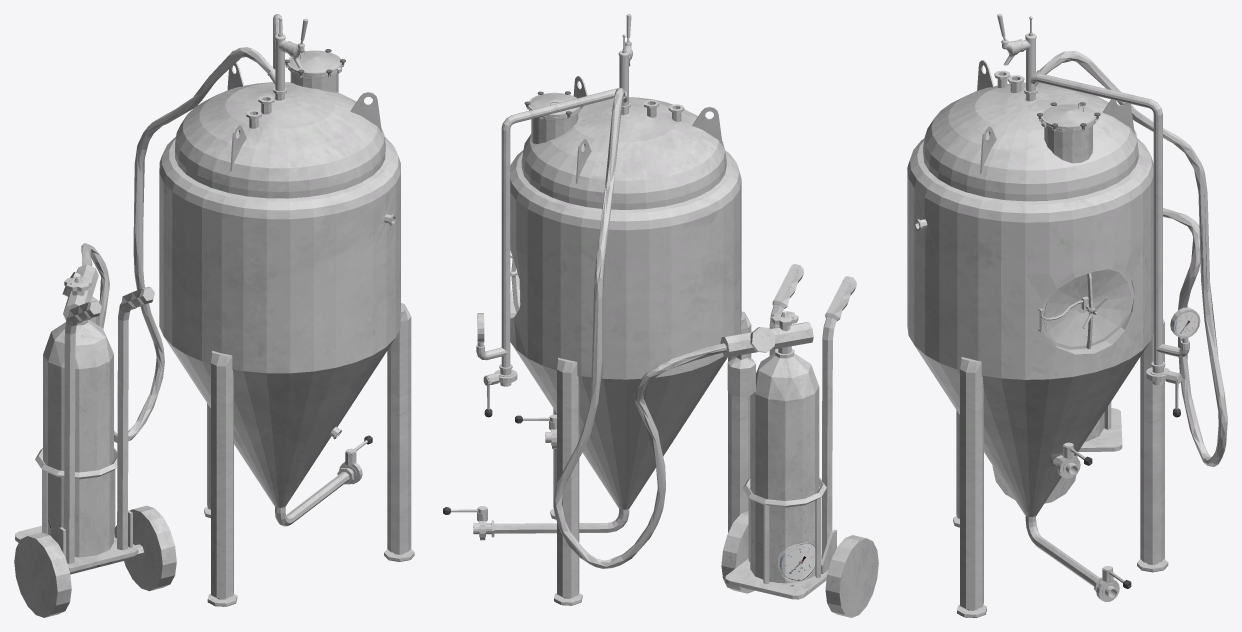
Rendered from P_WineBarrel.obj.
The picture shows the model from 3 angles, left to right: view 1: azimuth 30°, elevation 25°; view 2: azimuth 150°, elevation 25°; view 3: azimuth 270°, elevation 25°; orthographic projection. The views are drawn at different scales.
Size of the model in its own units: 1.7 by 2.3 by 1.2.
Materials: 1 (1 with a texture image).
